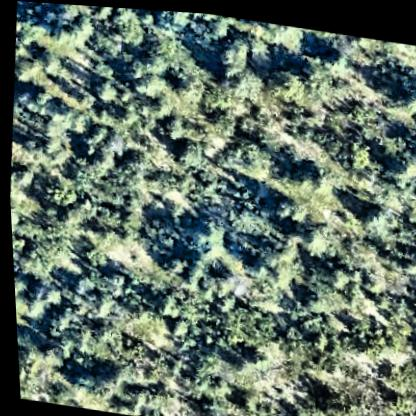tree-top: (211, 295, 277, 350), (36, 2, 96, 50), (294, 248, 348, 299), (268, 56, 313, 102), (239, 242, 287, 284), (228, 135, 275, 177), (293, 55, 336, 99), (109, 6, 151, 50), (77, 360, 118, 405), (32, 103, 79, 142), (367, 233, 416, 270), (214, 31, 253, 75), (272, 157, 317, 195), (338, 130, 375, 173), (148, 8, 189, 43), (36, 175, 74, 212), (351, 197, 390, 233), (371, 168, 408, 205), (160, 63, 198, 98), (316, 34, 351, 72), (275, 133, 315, 166), (379, 119, 412, 157), (311, 384, 349, 416), (139, 213, 177, 245), (168, 131, 202, 166), (12, 50, 46, 85), (197, 264, 232, 297), (113, 154, 148, 184), (83, 293, 118, 322), (31, 281, 61, 312), (78, 119, 108, 150), (161, 109, 189, 141), (66, 271, 93, 304), (36, 49, 64, 78), (157, 248, 185, 277), (209, 107, 238, 135), (265, 192, 295, 219), (398, 71, 416, 116), (91, 75, 118, 103), (230, 385, 256, 414), (302, 325, 329, 351), (163, 311, 186, 339), (187, 396, 219, 416), (153, 291, 176, 318)
